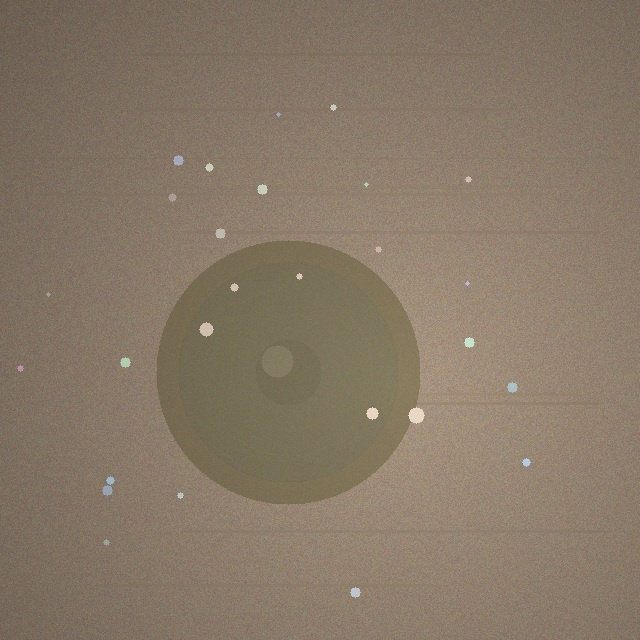overburn: (156, 240, 420, 504)
